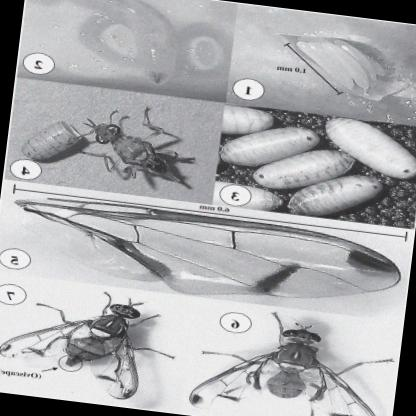fruit fly: (188, 323, 375, 416), (0, 297, 143, 400)
